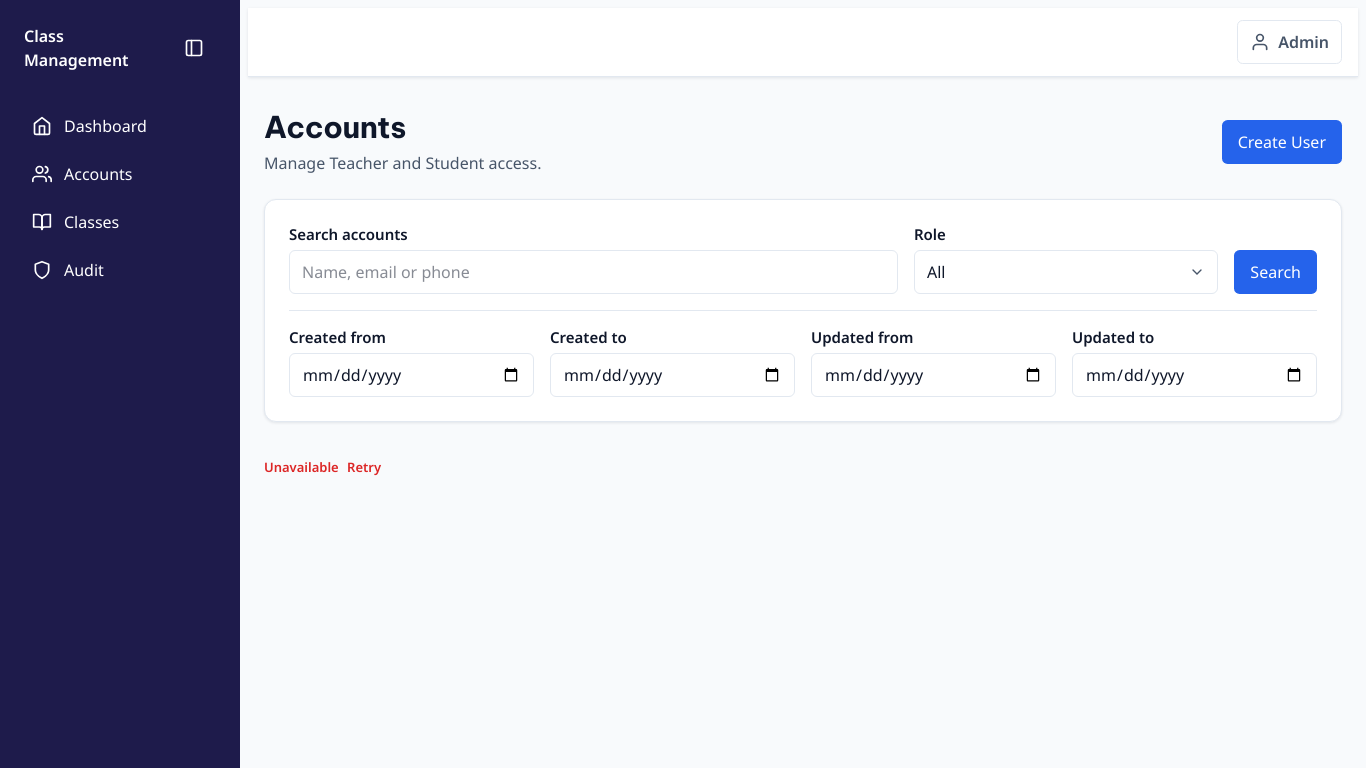
it: Admin accounts › offers retry after list loading fails
The image size is (1366, 768).
Check: the message shows "Unavailable", box [264,458,339,476]
Click the button "Retry".
click(364, 468)  # box [342,446,386,490]
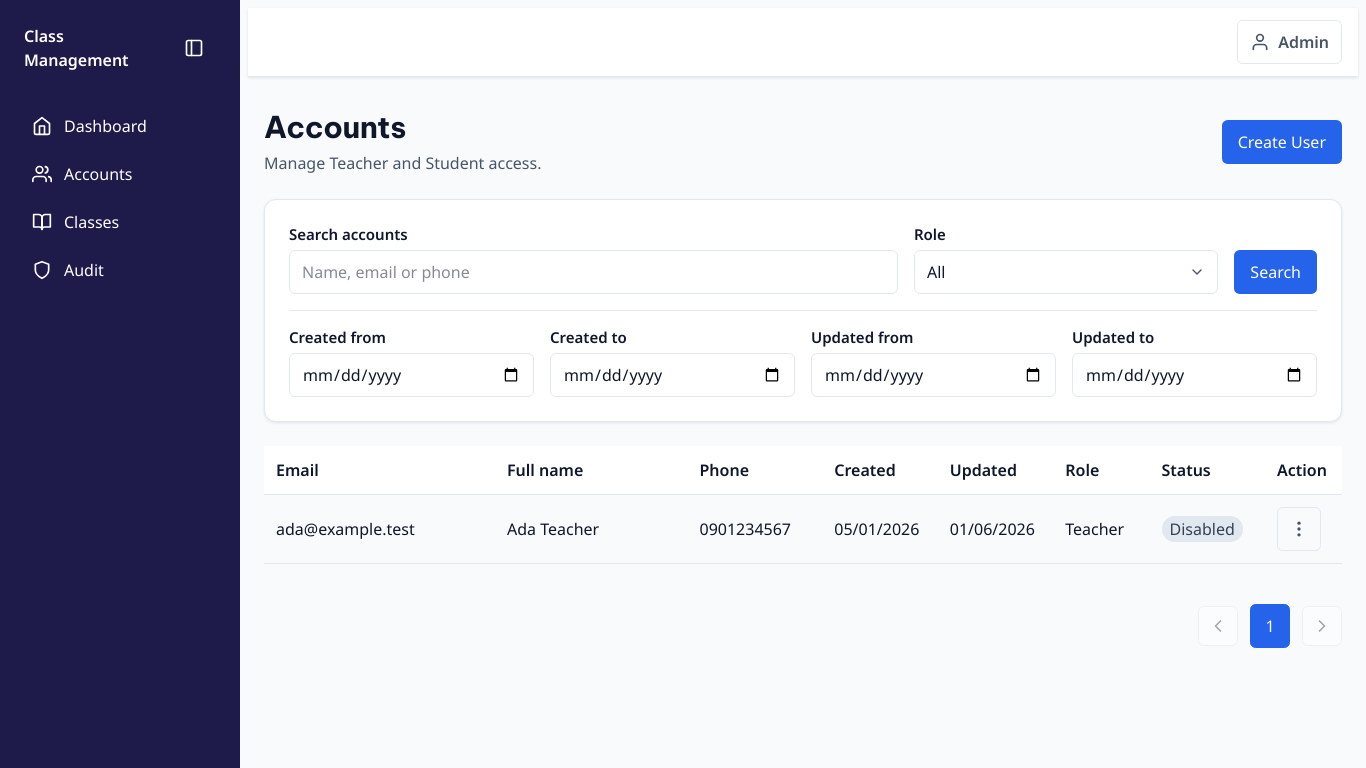
Check: the text "ada@example.test" is shown, box [276,518,415,540]
